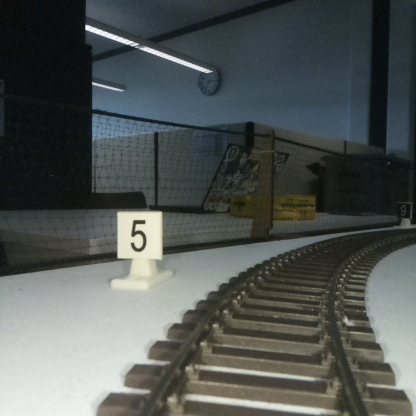black-stop-9: (397, 203, 410, 225)
white-stop-5: (117, 210, 161, 287)
